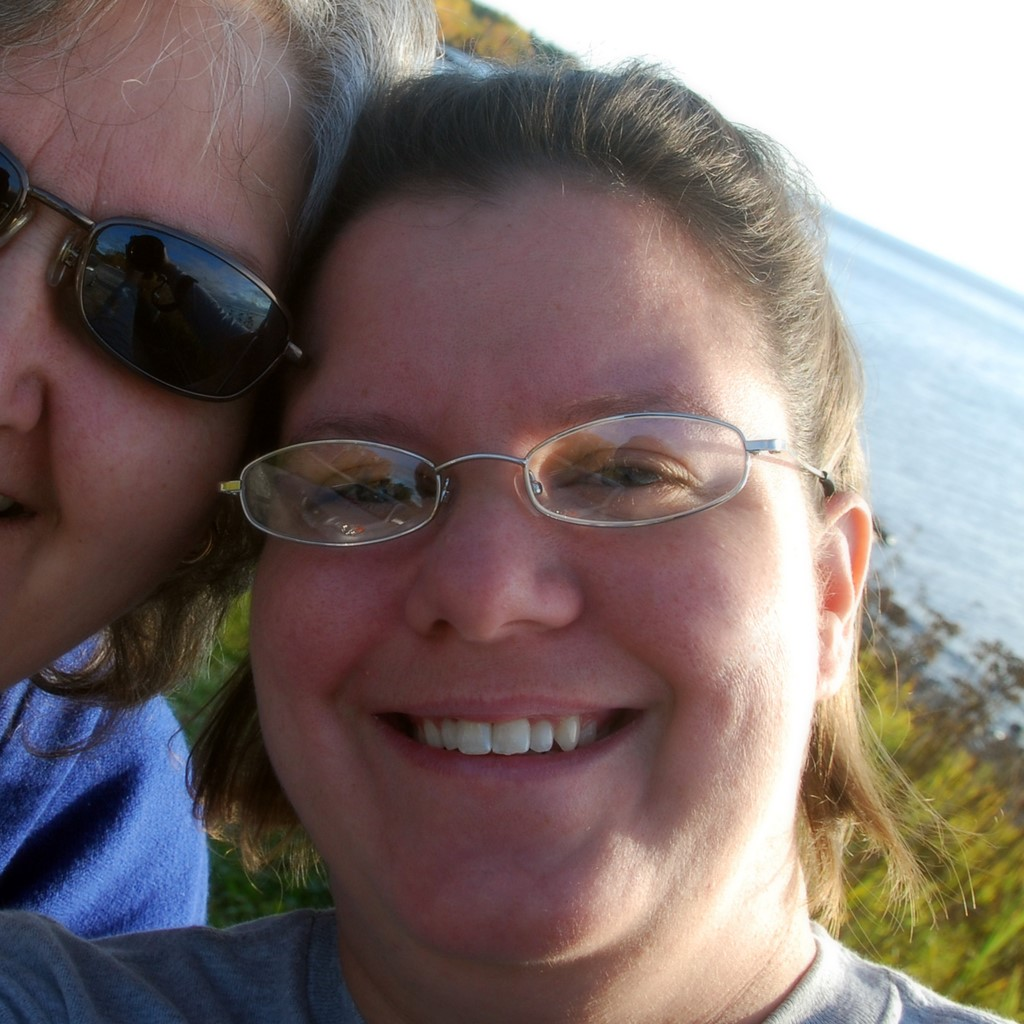sin_mascara: (268, 195, 820, 959)
